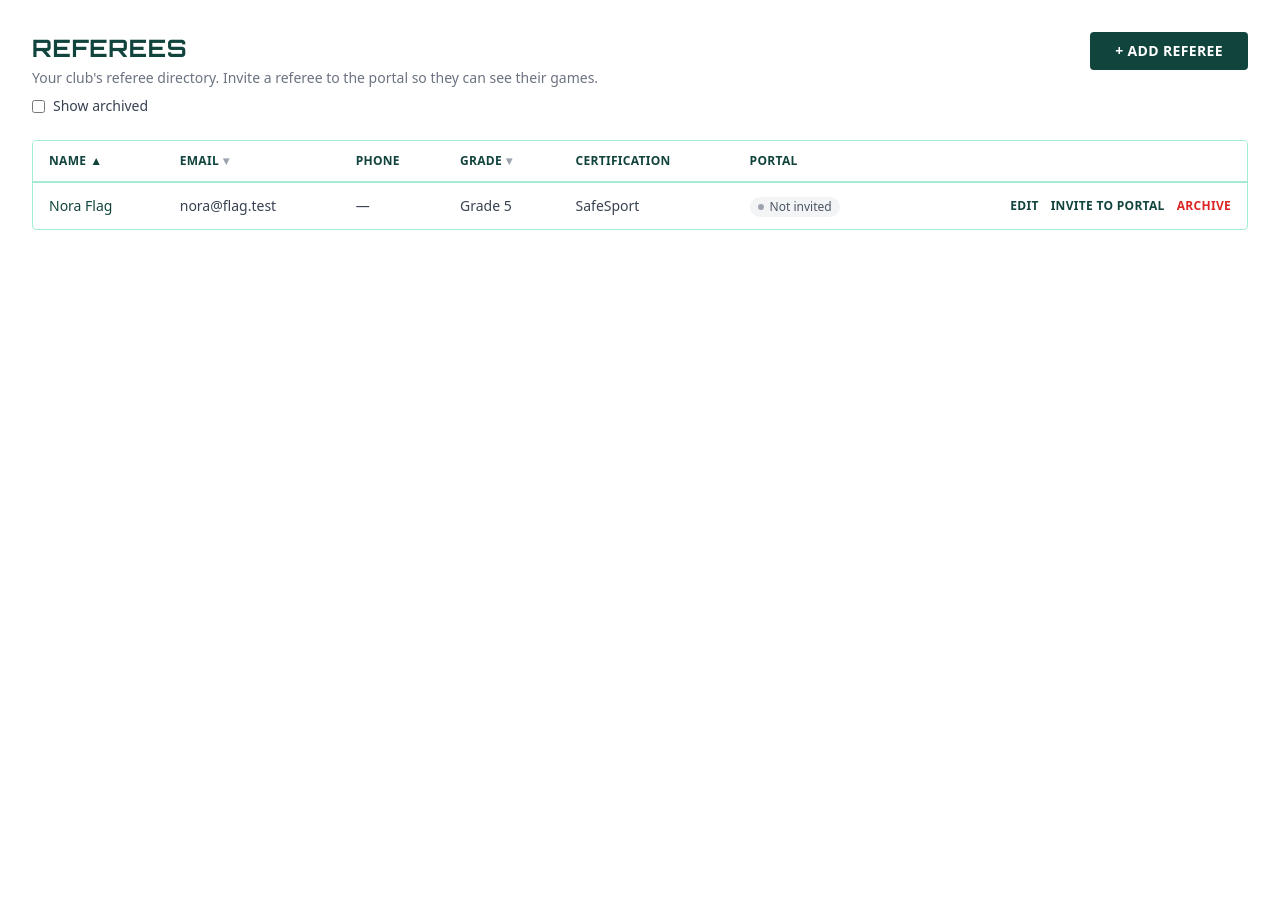
Scenario: Referees directory page › edits a referee through update with only the fields on the form, and "Other" is free text
Expected: the text "Nora Flag" is shown, [49, 196, 112, 215]
Click the button "Edit" at (1024, 206), box [1010, 198, 1039, 214]
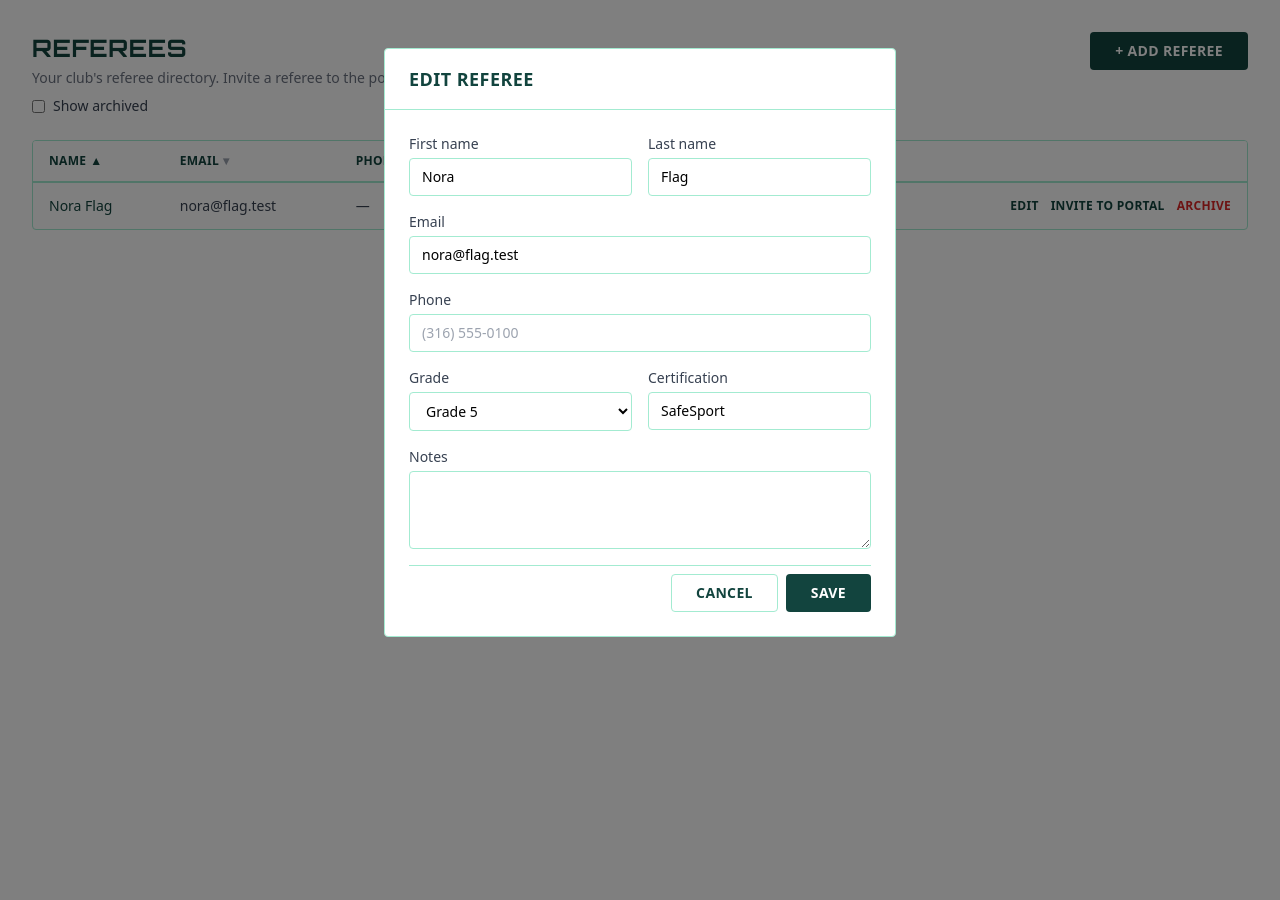
Expected: the field labelled "First name" holds "Nora", [409, 158, 632, 196]
Expected: the dropdown labelled "Grade" shows "Grade 5"
Select "Other" in the dropdown labelled "Grade" at (520, 412), box [409, 392, 632, 431]
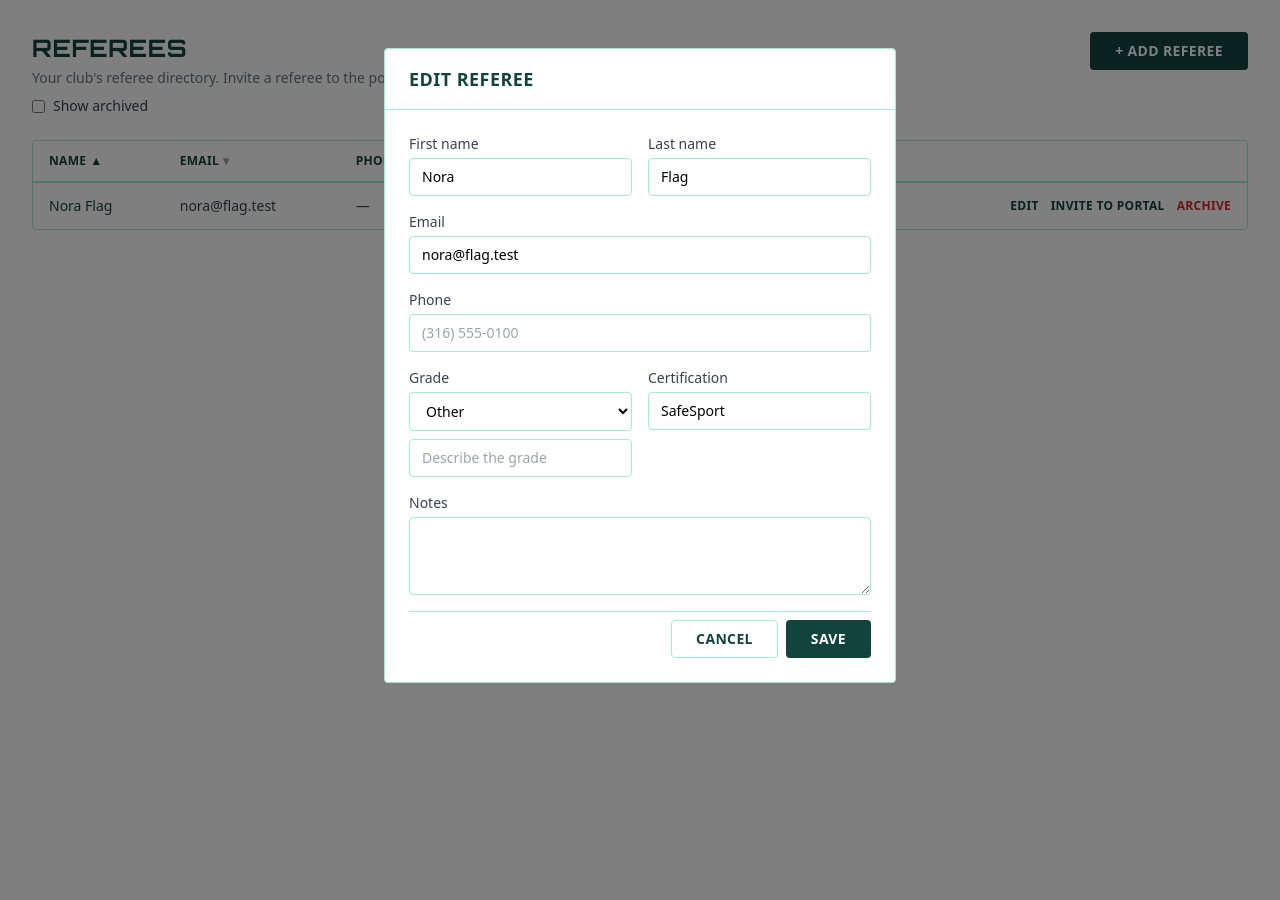
Type "FIFA Futsal" into the field named "Other grade" at (520, 458), box [409, 439, 632, 477]
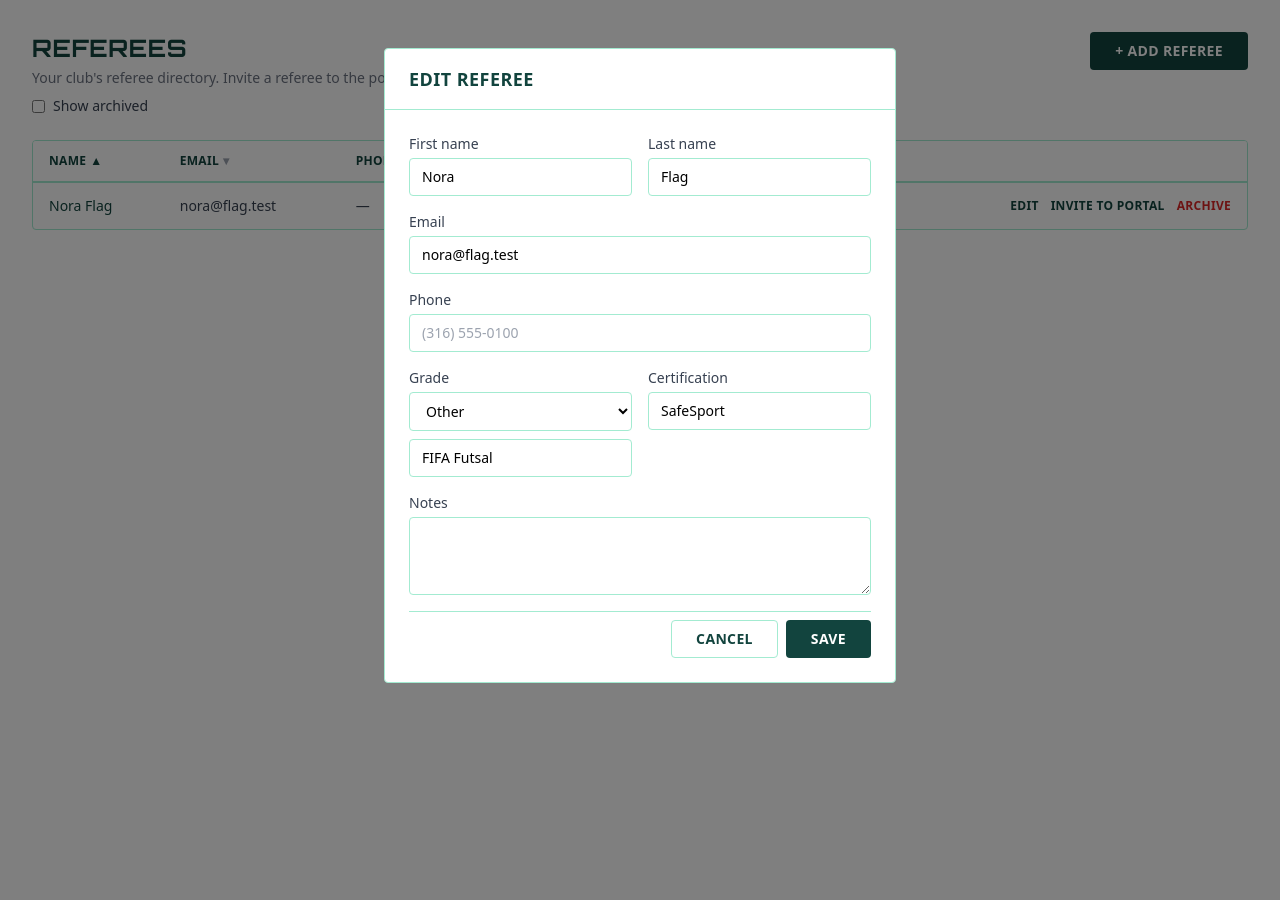
Submit the form "Save", box [385, 110, 895, 682]
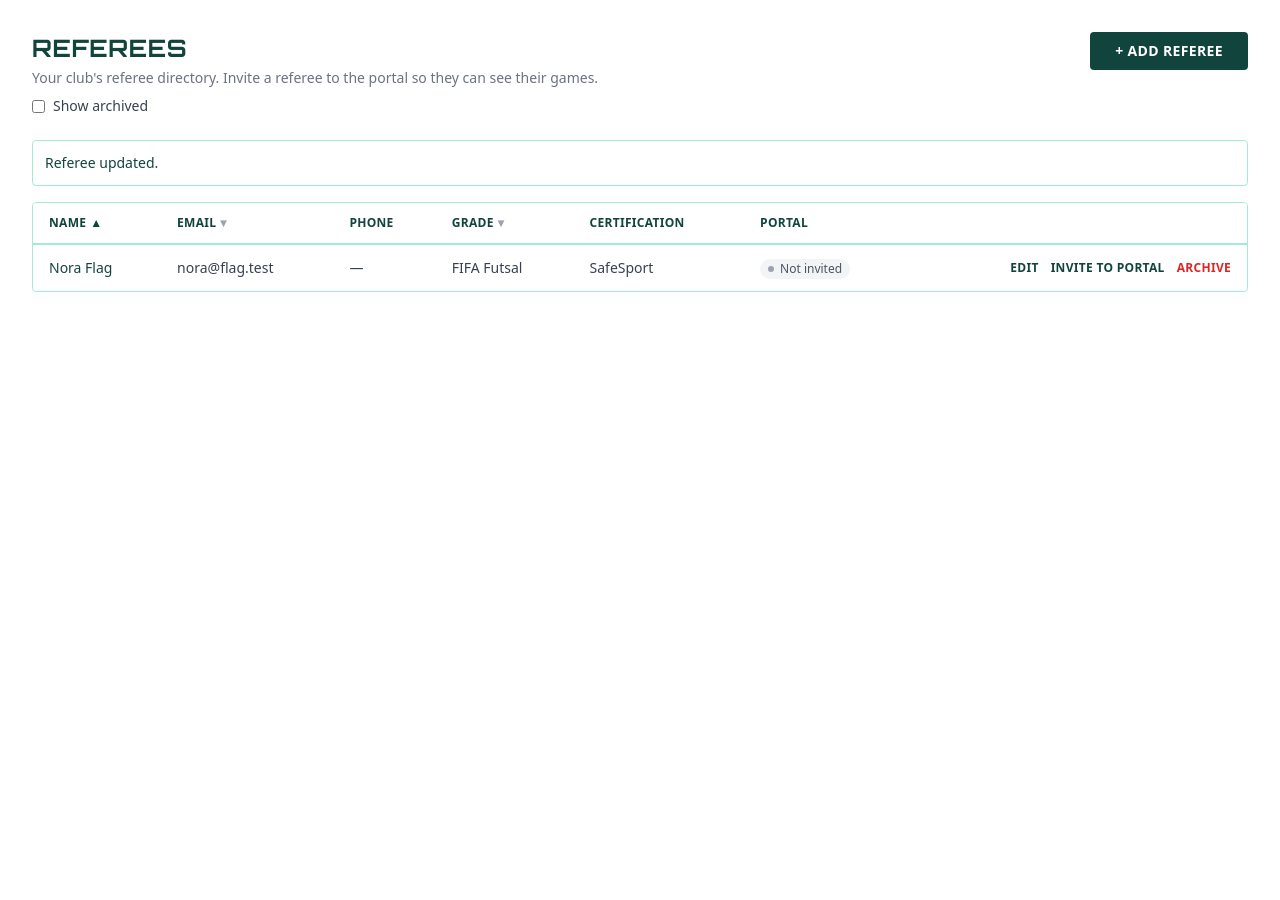
Expected: the text "FIFA Futsal" is shown, [452, 258, 522, 277]
